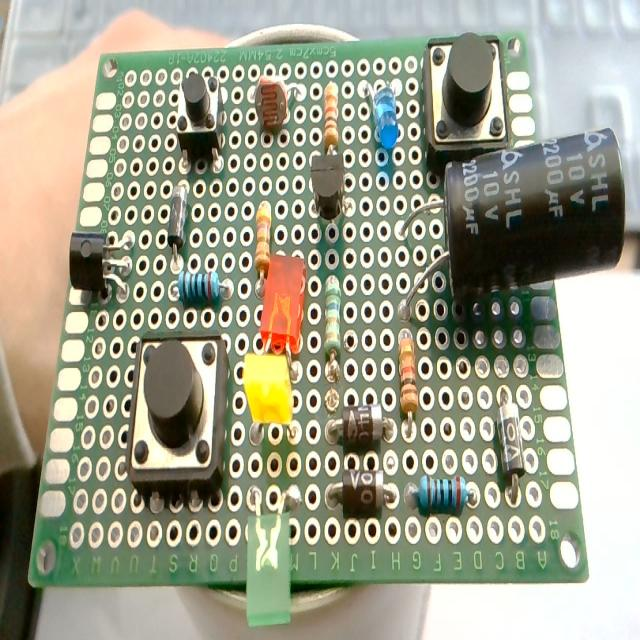Electrolytic capacitor: (401, 129, 632, 323)
cds: (247, 66, 307, 132)
diode: (319, 458, 397, 519), (494, 383, 524, 510), (326, 404, 396, 448), (166, 175, 192, 275)
led: (243, 479, 313, 639), (242, 352, 302, 447), (257, 252, 311, 354), (365, 66, 403, 158)
resistor: (407, 474, 482, 522), (393, 328, 425, 440), (318, 273, 344, 383), (167, 269, 233, 307), (254, 194, 272, 308), (321, 74, 343, 164)
switch: (125, 321, 233, 506), (417, 28, 518, 166), (170, 65, 231, 175)
transistor: (67, 228, 141, 308), (307, 150, 353, 236)
